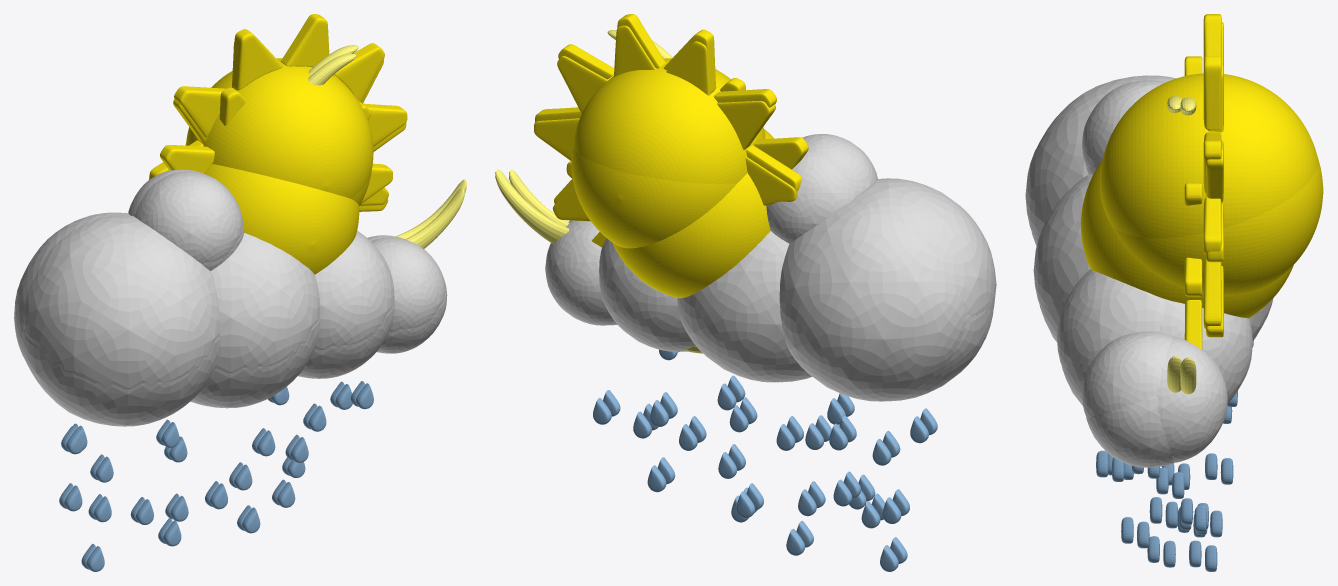
Rendered from all weather icons.fbx.
3 views of the same model, side by side, from view 1: azimuth 30°, elevation 25°; view 2: azimuth 150°, elevation 25°; view 3: azimuth 270°, elevation 25° (orthographic). The views are drawn at different scales.
Visible parts, largest first — view 1: qw.010_3, Сфера, qw.010_4, Сфера_3, qw.010_2, qw.010, Окружность.002_3, Сфера_2, Окружность.002; view 2: qw.010, Сфера, Сфера_2, Сфера_3, qw.010_3, qw.010_4, Окружность.002, Окружность.002_3; view 3: Сфера, qw.010_3, Сфера_2, qw.010, Сфера_3, qw.010_2, Окружность.002, Окружность.002_3.
Boxes of the visible parts, x1=… form: qw.010_3: x1=23, y1=171, x2=445, y2=389; Сфера: x1=149, y1=14, x2=407, y2=205; qw.010_4: x1=22, y1=256, x2=430, y2=426; Сфера_3: x1=160, y1=87, x2=392, y2=274; qw.010_2: x1=190, y1=217, x2=447, y2=399; qw.010: x1=14, y1=169, x2=408, y2=360; Окружность.002_3: x1=308, y1=53, x2=464, y2=248; Сфера_2: x1=149, y1=41, x2=406, y2=211; Окружность.002: x1=308, y1=45, x2=466, y2=239; qw.010: x1=545, y1=150, x2=966, y2=401; Сфера: x1=535, y1=14, x2=801, y2=203; Сфера_2: x1=534, y1=25, x2=798, y2=248; Сфера_3: x1=566, y1=78, x2=808, y2=298; qw.010_3: x1=569, y1=134, x2=996, y2=317; qw.010_4: x1=610, y1=306, x2=993, y2=401; Окружность.002: x1=495, y1=30, x2=616, y2=243; Окружность.002_3: x1=509, y1=40, x2=672, y2=226; Сфера: x1=1099, y1=14, x2=1318, y2=328; qw.010_3: x1=1025, y1=75, x2=1175, y2=418; Сфера_2: x1=1112, y1=22, x2=1323, y2=337; qw.010: x1=1156, y1=298, x2=1273, y2=462; Сфера_3: x1=1080, y1=56, x2=1293, y2=349; qw.010_2: x1=1035, y1=165, x2=1173, y2=467; Окружность.002: x1=1180, y1=97, x2=1196, y2=394; Окружность.002_3: x1=1167, y1=96, x2=1182, y2=392.
Bounding box in the file's own units: 461 × 226 × 477.
